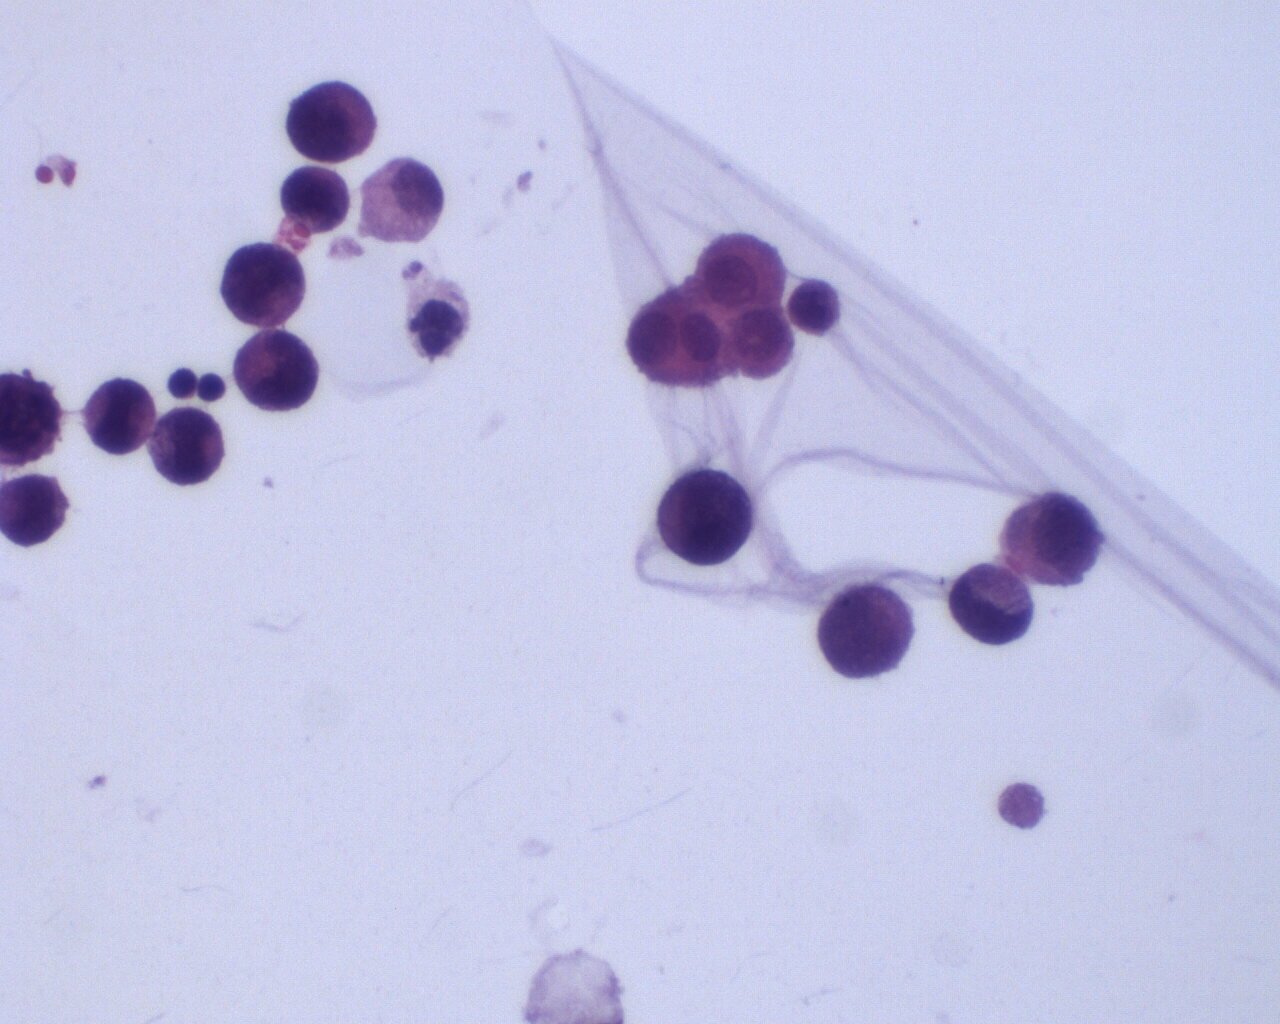ab: (653, 465, 757, 573), (818, 577, 920, 686), (1000, 490, 1100, 591), (944, 557, 1039, 649), (229, 325, 322, 413), (218, 241, 311, 328), (283, 78, 376, 160), (144, 403, 227, 488), (77, 373, 156, 455), (2, 468, 71, 552), (276, 163, 353, 235), (784, 270, 845, 338)
lymph: (197, 370, 228, 408)
meso: (354, 156, 449, 249), (726, 302, 800, 379)
